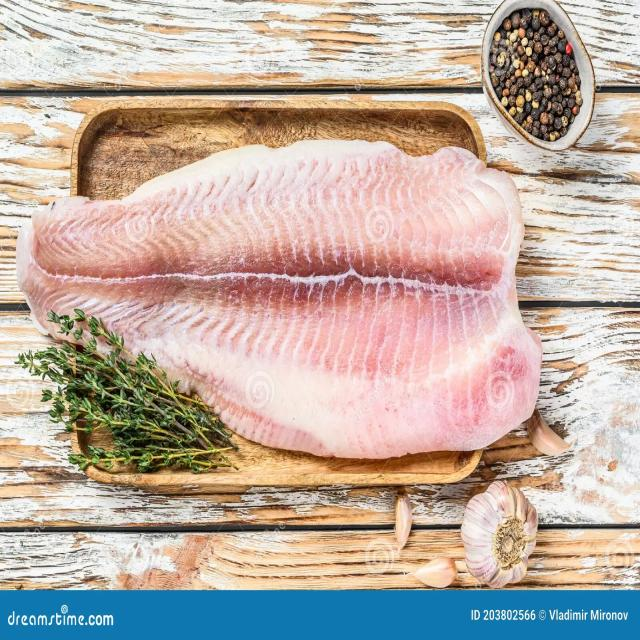Catfish: (19, 140, 557, 454)
Garlic: (459, 471, 537, 587), (528, 408, 569, 464), (412, 556, 457, 589), (391, 493, 416, 549)
Thyme: (8, 303, 256, 476)
